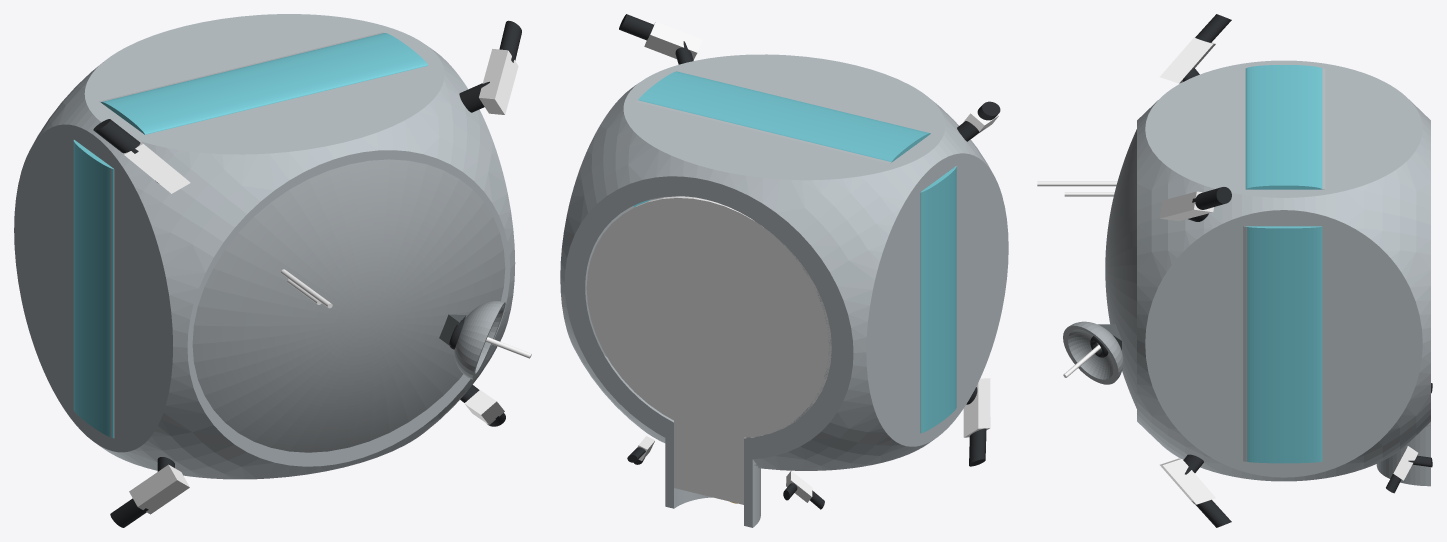
Rendered from tinker.obj.
3 views of the same model, side by side, from view 1: azimuth 30°, elevation 25°; view 2: azimuth 150°, elevation 25°; view 3: azimuth 270°, elevation 25° (orthographic). The views are drawn at different scales.
Visible parts, largest first — view 1: obj_30, obj_2, obj_1, obj_0, obj_24, obj_13, obj_7, obj_4, obj_5, obj_10; view 2: obj_30, obj_32, obj_1, obj_0, obj_38, obj_13, obj_7, obj_8, obj_14; view 3: obj_30, obj_29, obj_1, obj_2, obj_24, obj_10, obj_4, obj_13, obj_14, obj_5, obj_11, obj_21.
Boxes of the visible parts, bbox=[...] form: obj_30: bbox=[14, 14, 515, 479]; obj_2: bbox=[192, 159, 505, 452]; obj_1: bbox=[101, 33, 428, 134]; obj_0: bbox=[73, 140, 113, 438]; obj_24: bbox=[454, 301, 505, 379]; obj_13: bbox=[479, 49, 518, 114]; obj_7: bbox=[129, 464, 189, 514]; obj_4: bbox=[119, 139, 190, 193]; obj_5: bbox=[93, 119, 140, 153]; obj_10: bbox=[464, 390, 504, 424]; obj_30: bbox=[560, 54, 1008, 527]; obj_32: bbox=[586, 196, 831, 437]; obj_1: bbox=[638, 71, 930, 162]; obj_0: bbox=[920, 166, 956, 433]; obj_38: bbox=[674, 408, 745, 504]; obj_13: bbox=[644, 22, 702, 59]; obj_7: bbox=[963, 378, 990, 437]; obj_8: bbox=[969, 428, 986, 466]; obj_14: bbox=[619, 14, 653, 40]; obj_30: bbox=[1137, 60, 1430, 486]; obj_29: bbox=[1246, 226, 1322, 463]; obj_1: bbox=[1245, 65, 1322, 189]; obj_2: bbox=[1105, 129, 1136, 408]; obj_24: bbox=[1063, 321, 1123, 384]; obj_10: bbox=[1160, 458, 1215, 504]; obj_4: bbox=[1160, 37, 1215, 83]; obj_13: bbox=[1159, 191, 1213, 221]; obj_14: bbox=[1192, 187, 1231, 209]; obj_5: bbox=[1195, 14, 1231, 42]; obj_11: bbox=[1192, 499, 1231, 527]; obj_21: bbox=[1037, 181, 1117, 186].
Size of the model in its own units: 125 by 120 by 115.
